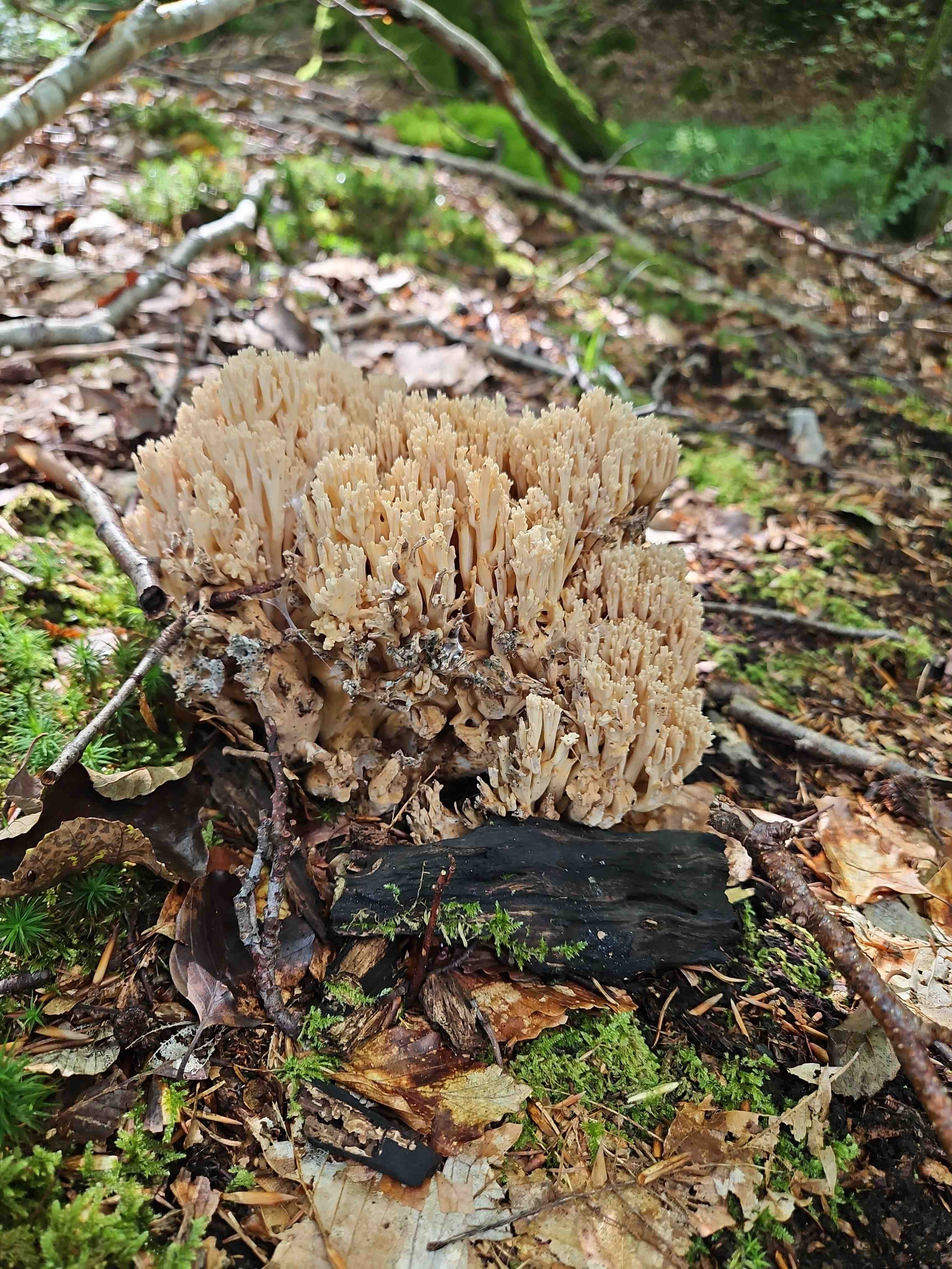coral: (126, 350, 710, 828)
